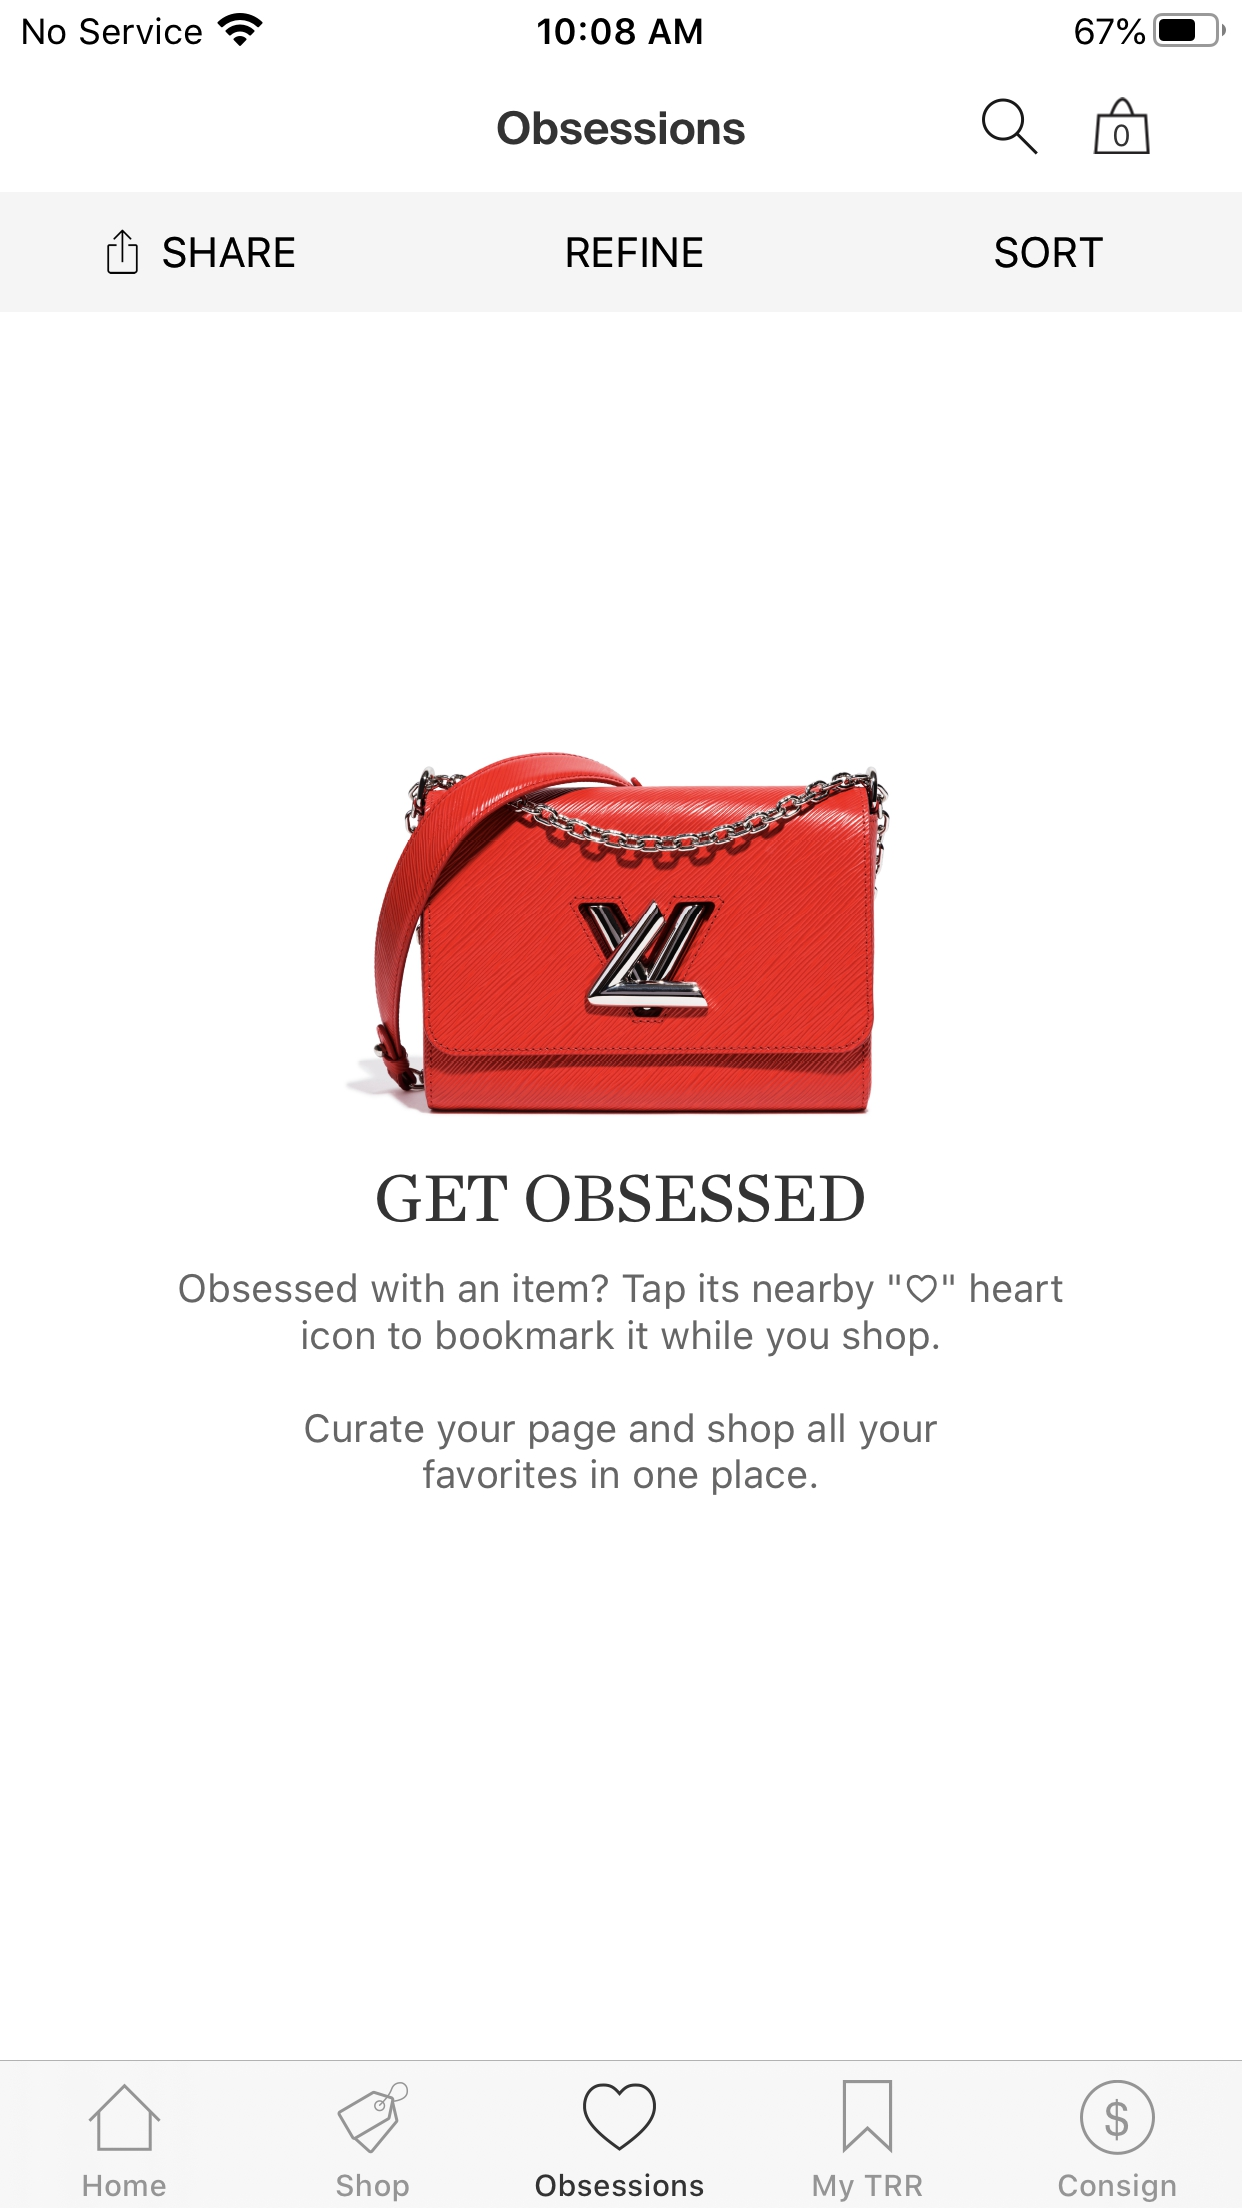Icon: (1080, 2081, 1156, 2155), (338, 2082, 409, 2153), (584, 2084, 657, 2150), (89, 2084, 162, 2150), (842, 2081, 893, 2153), (983, 99, 1037, 156), (108, 231, 140, 274)
Image: (347, 752, 890, 1115)
Text: (180, 1272, 1063, 1356), (306, 1413, 937, 1495), (378, 1174, 864, 1224), (497, 111, 745, 146), (567, 238, 707, 268), (164, 237, 296, 268), (535, 2173, 704, 2197), (995, 237, 1102, 268), (1059, 2173, 1175, 2202), (1093, 99, 1149, 155), (813, 2175, 922, 2202), (337, 2173, 409, 2202), (83, 2175, 167, 2197)
UpperTaskBar: (2, 2, 1242, 49)
